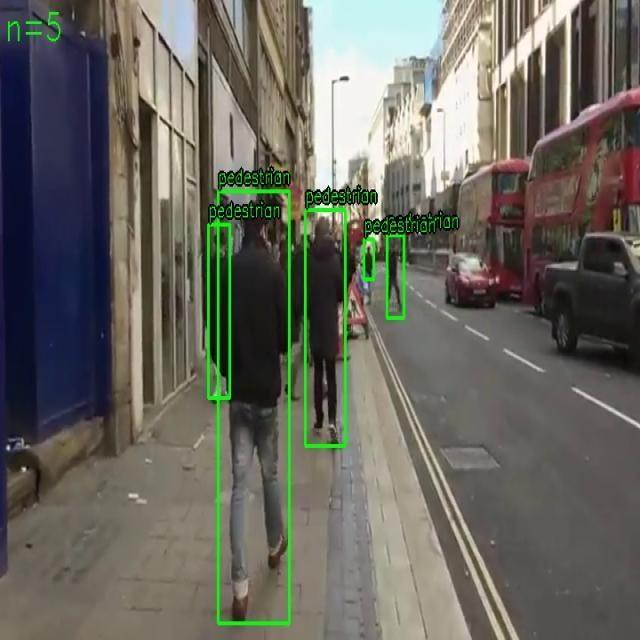person: (218, 190, 290, 624), (305, 209, 346, 447), (208, 224, 230, 399), (386, 234, 404, 318), (364, 238, 374, 280)
